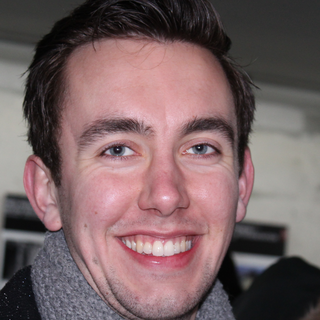eye: (94, 139, 143, 164), (178, 138, 224, 163)
